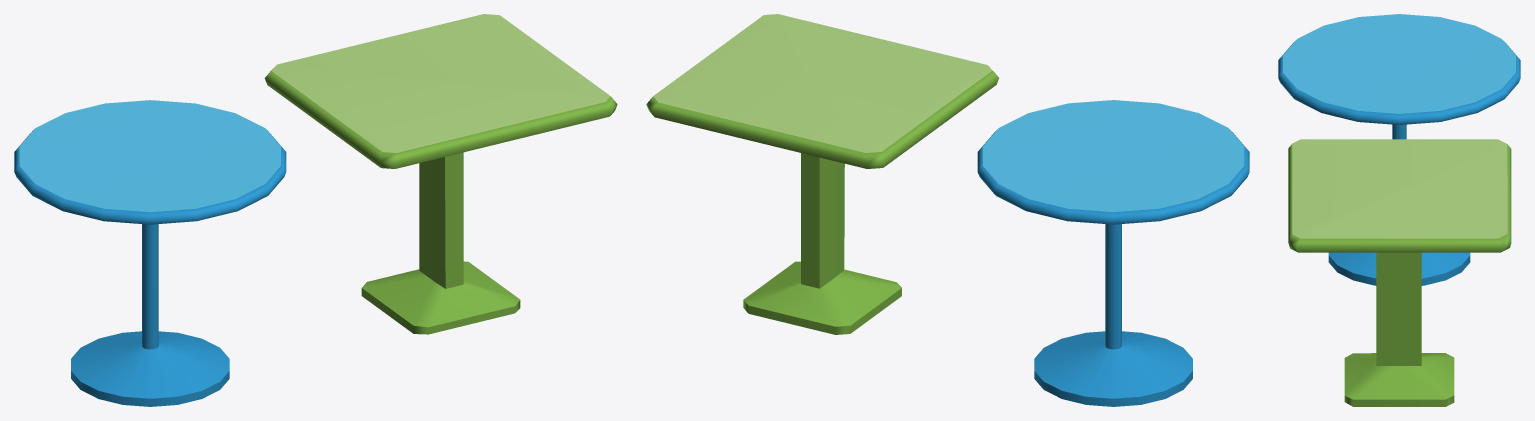
Rendered from tables.fbx.
The picture shows the model from 3 angles, left to right: view 1: azimuth 30°, elevation 25°; view 2: azimuth 150°, elevation 25°; view 3: azimuth 270°, elevation 25°; orthographic projection. The views are drawn at different scales.
Parts seen in each view (by area): view 1: table_2, table_1; view 2: table_2, table_1; view 3: table_2, table_1.
Part boxes in pixels (x1,y1,x2,y2): table_2: (264, 14, 617, 334); table_1: (14, 100, 286, 406); table_2: (646, 14, 998, 334); table_1: (977, 100, 1249, 406); table_2: (1288, 139, 1511, 406); table_1: (1278, 14, 1520, 285).
Size of the model in its own units: 133 by 52.38 by 59.1.
